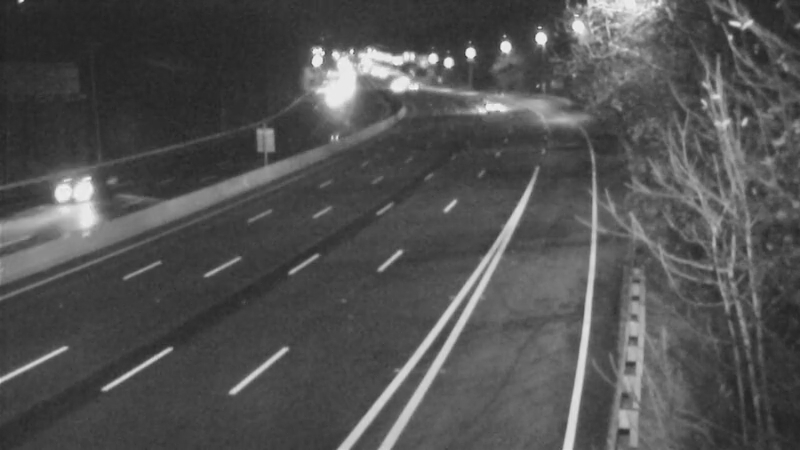vehicle: (36, 155, 116, 235), (381, 56, 431, 106), (389, 62, 439, 112), (368, 60, 418, 110), (461, 82, 511, 132)
